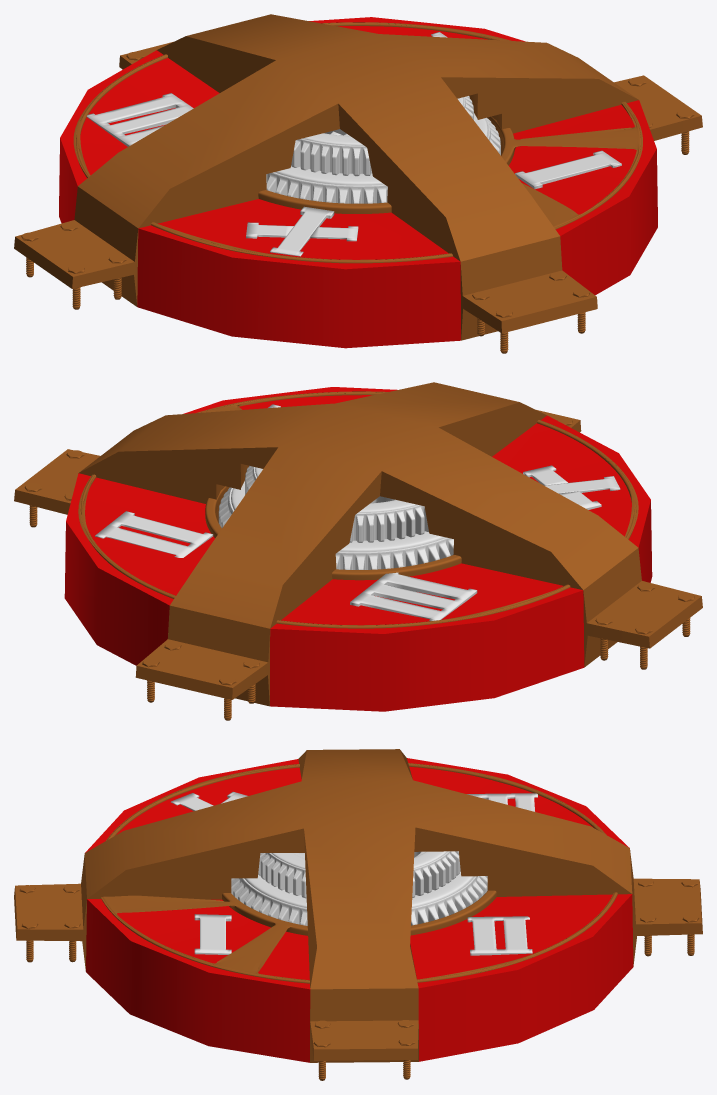
The model's file is Magnets.fbx.
3 renders of one model, top to bottom at view 1: azimuth 30°, elevation 25°; view 2: azimuth 150°, elevation 25°; view 3: azimuth 270°, elevation 25°, orthographic. The views are drawn at different scales.
Parts seen in each view (by area): view 1: Magnet_Base, Mode_Switch, Cogwheel_1, Cogwheel_2, Mode_3, Bolt, Mode_Deactivate, Mode_1; view 2: Magnet_Base, Mode_Switch, Cogwheel_1, Mode_3, Cogwheel_2, Bolt, Mode_2, Mode_Deactivate; view 3: Magnet_Base, Mode_Switch, Cogwheel_1, Cogwheel_2, Bolt, Mode_2, Mode_1, Mode_3, Mode_Deactivate.
Boxes of the visible parts, box(x1,y1,x2,y2) form: Magnet_Base: box(14, 14, 702, 348); Mode_Switch: box(73, 22, 642, 263); Cogwheel_1: box(266, 113, 500, 203); Cogwheel_2: box(291, 96, 473, 176); Mode_3: box(87, 93, 193, 146); Bolt: box(21, 51, 694, 353); Mode_Deactivate: box(246, 206, 358, 256); Mode_1: box(515, 150, 621, 189); Magnet_Base: box(14, 382, 702, 711); Mode_Switch: box(78, 391, 638, 628); Cogwheel_1: box(218, 481, 453, 569); Mode_3: box(350, 572, 477, 621); Cogwheel_2: box(245, 465, 428, 542); Bolt: box(24, 417, 694, 720); Mode_2: box(95, 511, 213, 557); Mode_Deactivate: box(523, 465, 620, 509); Magnet_Base: box(14, 749, 702, 1062); Mode_Switch: box(101, 763, 617, 983); Cogwheel_1: box(231, 853, 487, 925); Cogwheel_2: box(258, 851, 460, 898); Bolt: box(19, 879, 699, 1080); Mode_2: box(467, 916, 532, 955); Mode_1: box(194, 914, 231, 954); Mode_3: box(467, 793, 537, 811); Mode_Deactivate: box(171, 791, 247, 810).
Size of the model in its own units: 247 by 56.2 by 247.
